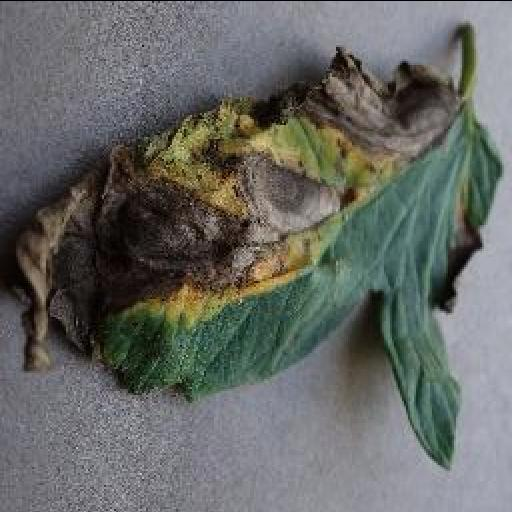disease_tomato: (4, 16, 506, 469)
